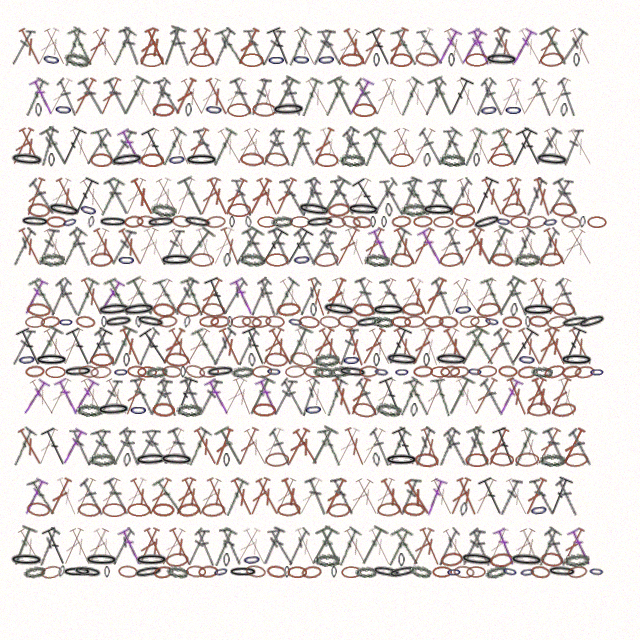chain: (46, 200, 82, 220), (296, 200, 332, 219), (321, 300, 357, 319), (109, 151, 145, 169), (471, 212, 503, 232), (9, 151, 45, 168), (534, 151, 570, 168), (96, 301, 132, 318), (121, 301, 157, 318), (384, 351, 420, 368), (459, 551, 495, 568), (576, 312, 608, 331), (509, 552, 544, 568), (387, 563, 418, 581), (63, 50, 91, 69), (135, 313, 166, 330), (484, 52, 519, 67), (271, 102, 306, 117), (346, 202, 381, 217), (434, 352, 469, 367), (96, 402, 131, 417), (134, 452, 169, 467), (159, 452, 194, 467), (182, 214, 213, 230), (354, 314, 385, 330), (560, 314, 591, 330), (72, 564, 103, 580), (133, 564, 164, 580), (371, 564, 402, 580), (289, 350, 315, 369), (184, 153, 219, 167), (421, 203, 456, 217), (159, 253, 194, 267), (371, 303, 406, 317), (521, 303, 556, 317), (34, 353, 69, 367), (559, 353, 594, 367), (384, 453, 419, 467), (9, 553, 44, 567), (84, 553, 119, 567), (134, 553, 169, 567), (351, 401, 377, 419), (551, 401, 577, 419), (103, 314, 134, 329), (205, 364, 236, 379), (375, 401, 402, 418), (414, 51, 440, 68), (337, 365, 368, 379), (150, 202, 177, 218), (313, 352, 340, 368), (563, 552, 590, 568), (484, 563, 508, 581), (264, 151, 289, 168), (314, 251, 339, 268), (439, 251, 464, 268), (176, 301, 201, 318), (476, 301, 501, 318), (26, 501, 51, 518), (146, 215, 176, 229), (305, 215, 335, 229), (440, 551, 464, 568), (540, 551, 564, 568), (501, 202, 526, 218), (26, 302, 51, 318), (201, 302, 226, 318), (414, 452, 439, 468), (564, 452, 589, 468), (201, 502, 226, 518), (489, 552, 514, 568), (543, 363, 566, 380), (401, 202, 427, 217), (20, 215, 50, 228), (39, 252, 65, 267), (239, 252, 265, 267), (514, 252, 540, 267), (63, 365, 93, 378), (89, 452, 115, 467), (547, 565, 577, 578), (27, 202, 51, 218), (327, 202, 351, 218), (390, 252, 414, 268), (490, 252, 514, 268), (152, 302, 176, 318), (352, 302, 376, 318), (77, 502, 101, 518), (177, 502, 201, 518), (327, 502, 351, 518), (165, 552, 189, 568), (78, 201, 99, 219), (551, 202, 576, 217), (539, 252, 564, 267), (276, 302, 301, 317), (264, 352, 289, 367), (184, 363, 206, 380), (546, 314, 569, 330), (23, 564, 46, 580), (40, 564, 63, 580), (339, 153, 365, 167), (439, 153, 465, 167), (364, 253, 390, 267), (76, 403, 102, 417), (176, 403, 202, 417), (539, 453, 565, 467), (314, 553, 340, 567), (540, 52, 564, 67), (252, 102, 276, 117), (240, 152, 264, 167), (98, 216, 128, 228), (165, 352, 189, 367), (527, 402, 551, 417), (265, 452, 289, 467), (490, 452, 514, 467), (515, 452, 539, 467), (277, 502, 301, 517), (377, 502, 401, 517), (402, 502, 426, 517), (62, 566, 92, 578), (228, 566, 258, 578), (41, 51, 62, 68), (340, 214, 362, 230), (526, 214, 548, 230), (560, 214, 582, 230), (90, 252, 113, 267), (402, 302, 425, 317), (552, 302, 575, 317), (328, 364, 351, 379), (152, 402, 175, 417), (409, 564, 432, 579), (140, 53, 164, 67), (190, 53, 214, 67), (240, 53, 264, 67), (340, 53, 364, 67), (465, 53, 489, 67), (227, 103, 251, 117), (352, 103, 376, 117), (140, 153, 164, 167), (315, 153, 339, 167), (390, 153, 414, 167), (490, 153, 514, 167), (227, 203, 251, 217), (190, 253, 214, 267), (265, 253, 289, 267), (90, 353, 114, 367), (252, 403, 276, 417), (465, 453, 489, 467), (102, 503, 126, 517), (127, 503, 151, 517), (337, 314, 359, 329), (390, 53, 413, 67), (152, 103, 175, 117), (90, 153, 113, 167), (452, 203, 475, 217), (145, 365, 168, 379), (231, 365, 254, 379), (152, 503, 175, 517), (166, 565, 189, 579), (479, 102, 499, 118), (529, 502, 549, 518), (171, 214, 192, 229), (251, 314, 272, 329), (459, 314, 480, 329), (561, 364, 582, 379), (245, 564, 266, 579), (266, 564, 287, 579), (298, 315, 320, 329), (319, 315, 341, 329), (90, 365, 112, 379), (453, 565, 475, 579), (204, 102, 224, 117), (167, 152, 187, 167), (292, 252, 312, 267), (17, 352, 37, 367), (517, 352, 537, 367), (242, 552, 262, 567), (205, 215, 226, 229), (325, 215, 346, 229), (352, 215, 373, 229), (40, 315, 61, 329), (75, 315, 96, 329), (241, 315, 262, 329), (438, 315, 459, 329), (303, 365, 324, 379), (449, 365, 470, 379), (517, 365, 538, 379), (574, 365, 595, 379), (153, 565, 174, 579), (301, 565, 322, 579), (530, 565, 551, 579), (567, 565, 588, 579), (61, 214, 79, 230), (271, 215, 293, 228), (230, 315, 252, 328), (292, 52, 311, 67), (317, 52, 336, 67), (54, 102, 73, 117), (454, 302, 473, 317), (304, 402, 323, 417), (136, 215, 157, 228), (391, 215, 412, 228), (157, 315, 178, 328), (404, 315, 425, 328), (423, 315, 444, 328), (528, 315, 549, 328), (78, 365, 99, 378), (483, 314, 501, 329), (212, 564, 230, 579), (501, 564, 519, 579), (267, 53, 286, 67), (504, 103, 523, 117), (117, 253, 136, 267), (342, 353, 361, 367), (129, 403, 148, 417), (372, 316, 394, 328), (313, 366, 335, 378), (531, 366, 553, 378), (355, 566, 377, 578), (124, 215, 144, 228), (413, 215, 433, 228), (455, 215, 475, 228), (199, 315, 219, 328), (210, 315, 230, 328), (265, 315, 285, 328), (25, 365, 45, 378), (127, 365, 147, 378), (162, 365, 182, 378), (252, 365, 272, 378), (285, 365, 305, 378), (359, 365, 379, 378), (413, 365, 433, 378), (440, 365, 460, 378), (477, 365, 497, 378), (498, 365, 518, 378), (118, 565, 138, 578), (186, 565, 206, 578), (198, 565, 218, 578), (433, 216, 454, 228), (510, 216, 531, 228), (470, 316, 491, 328), (45, 366, 66, 378), (46, 216, 66, 228), (257, 216, 277, 228), (290, 216, 310, 228), (587, 216, 607, 228), (25, 316, 45, 328), (391, 316, 411, 328), (502, 316, 522, 328), (137, 366, 157, 378), (199, 366, 219, 378), (430, 366, 450, 378), (287, 566, 307, 578), (341, 566, 361, 578), (432, 566, 452, 578), (466, 566, 486, 578), (542, 215, 559, 229), (287, 315, 304, 329), (373, 365, 390, 379), (519, 565, 536, 579), (495, 215, 512, 228), (588, 565, 605, 578), (266, 365, 282, 378), (467, 365, 483, 378), (58, 316, 74, 328), (113, 366, 129, 378), (394, 366, 410, 378), (589, 366, 605, 378), (446, 566, 462, 578), (372, 452, 381, 467), (459, 502, 468, 517), (57, 565, 66, 578), (560, 103, 568, 117), (423, 153, 431, 167), (385, 203, 393, 217), (223, 253, 231, 267), (510, 303, 518, 317), (248, 353, 256, 367), (410, 403, 418, 417), (123, 453, 131, 467), (373, 53, 380, 67), (448, 53, 455, 67), (573, 53, 580, 67), (35, 103, 42, 117), (185, 103, 192, 117), (48, 153, 55, 167), (473, 153, 480, 167), (310, 303, 317, 317), (123, 353, 130, 367), (373, 353, 380, 367), (423, 353, 430, 367), (223, 453, 230, 467), (223, 553, 230, 567), (398, 553, 405, 567), (87, 216, 95, 228), (183, 316, 191, 328), (245, 216, 252, 228), (579, 216, 586, 228), (135, 316, 142, 328), (229, 216, 235, 228), (370, 216, 376, 228), (381, 216, 387, 228), (101, 316, 107, 328), (227, 316, 233, 328), (525, 316, 531, 328), (180, 366, 186, 378), (104, 566, 110, 578), (284, 566, 290, 578), (331, 566, 337, 578)
double: (179, 226, 216, 268), (317, 175, 352, 218), (363, 126, 398, 168), (230, 226, 265, 268), (138, 326, 173, 368), (539, 25, 573, 68), (39, 125, 73, 168), (493, 275, 527, 318), (456, 325, 490, 368), (214, 425, 248, 468), (306, 525, 340, 568), (351, 176, 385, 218), (256, 226, 290, 268), (281, 226, 315, 268), (506, 326, 540, 368), (118, 75, 151, 118), (268, 75, 301, 118), (481, 225, 514, 268), (126, 275, 159, 318), (31, 325, 64, 368), (443, 375, 476, 418), (306, 425, 339, 468), (356, 525, 389, 568), (151, 476, 185, 517), (26, 476, 59, 518), (389, 526, 422, 568), (327, 75, 359, 118), (427, 75, 459, 118), (177, 175, 209, 218), (282, 325, 314, 368), (244, 375, 276, 418), (315, 525, 347, 568), (214, 26, 247, 67), (140, 126, 172, 168), (432, 126, 464, 168), (507, 126, 539, 168), (94, 176, 126, 218), (57, 226, 89, 268), (27, 276, 59, 318), (152, 276, 184, 318), (269, 276, 301, 318), (82, 326, 114, 368), (465, 326, 497, 368), (90, 426, 122, 468), (382, 526, 414, 568), (57, 125, 88, 168), (107, 325, 138, 368), (477, 475, 508, 518), (451, 277, 484, 317), (77, 176, 109, 217), (107, 26, 138, 68), (365, 26, 396, 68), (390, 26, 421, 68), (19, 76, 50, 118), (319, 76, 350, 118), (444, 76, 475, 118), (90, 126, 121, 168), (157, 126, 188, 168), (207, 126, 238, 168), (515, 126, 546, 168), (69, 176, 100, 218), (402, 176, 433, 218), (427, 176, 458, 218), (102, 276, 133, 318), (15, 326, 46, 368), (65, 326, 96, 368), (190, 326, 221, 368), (394, 376, 425, 418), (40, 426, 71, 468), (382, 426, 413, 468), (219, 476, 250, 518), (470, 175, 500, 218), (203, 275, 233, 318), (241, 325, 271, 368), (383, 325, 413, 368), (558, 325, 588, 368), (391, 425, 421, 468), (466, 425, 496, 468), (8, 525, 38, 568), (41, 525, 71, 568), (557, 27, 589, 67), (482, 127, 514, 167), (94, 277, 126, 317), (394, 277, 426, 317), (482, 327, 514, 367), (19, 377, 51, 417), (290, 427, 322, 467), (344, 477, 376, 517), (402, 477, 434, 517), (457, 26, 488, 67), (77, 76, 108, 117), (519, 76, 550, 117), (215, 126, 246, 167), (232, 126, 263, 167), (532, 126, 563, 167), (552, 176, 583, 217), (277, 276, 308, 317), (182, 326, 213, 367), (69, 376, 100, 417), (15, 426, 46, 467), (15, 526, 46, 567), (232, 526, 263, 567), (440, 526, 471, 567), (66, 26, 96, 68), (283, 26, 313, 68), (358, 26, 388, 68), (395, 76, 425, 118), (458, 126, 488, 168), (220, 176, 250, 218), (383, 226, 413, 268), (70, 276, 100, 318), (403, 376, 433, 418), (8, 426, 38, 468), (183, 426, 213, 468), (508, 426, 538, 468), (208, 526, 238, 568), (333, 526, 363, 568), (533, 526, 563, 568), (158, 25, 187, 68), (266, 25, 295, 68), (378, 375, 407, 418), (491, 425, 520, 468), (545, 475, 574, 518), (90, 27, 121, 67), (332, 27, 363, 67), (557, 227, 588, 267), (344, 277, 375, 317), (27, 377, 58, 417), (183, 26, 213, 67), (433, 26, 463, 67), (508, 26, 538, 67), (516, 26, 546, 67), (45, 76, 75, 117), (178, 76, 208, 117), (303, 76, 333, 117), (345, 76, 375, 117), (403, 76, 433, 117), (116, 126, 146, 167), (408, 126, 438, 167), (541, 126, 571, 167), (566, 126, 596, 167), (103, 176, 133, 217), (128, 176, 158, 217), (153, 176, 183, 217), (116, 226, 146, 267), (166, 226, 196, 267), (241, 226, 271, 267), (416, 226, 446, 267), (466, 226, 496, 267), (491, 226, 521, 267), (516, 226, 546, 267), (566, 226, 596, 267), (145, 276, 175, 317), (170, 276, 200, 317), (195, 276, 225, 317), (41, 326, 71, 367), (158, 326, 188, 367), (166, 326, 196, 367), (266, 326, 296, 367), (316, 326, 346, 367), (358, 326, 388, 367), (566, 326, 596, 367), (78, 376, 108, 417), (203, 376, 233, 417), (220, 376, 250, 417), (470, 376, 500, 417), (58, 426, 88, 467), (191, 426, 221, 467), (241, 426, 271, 467), (358, 426, 388, 467), (533, 426, 563, 467), (558, 426, 588, 467), (103, 476, 133, 517), (128, 476, 158, 517), (253, 476, 283, 517), (295, 476, 325, 517), (378, 476, 408, 517), (91, 526, 121, 567), (158, 526, 188, 567), (341, 526, 371, 567), (508, 526, 538, 567), (441, 26, 470, 68), (491, 26, 520, 68), (295, 76, 324, 118), (283, 126, 312, 168), (358, 126, 387, 168), (491, 126, 520, 168), (216, 326, 245, 368), (483, 426, 512, 468), (228, 476, 257, 518), (83, 526, 112, 568), (408, 526, 437, 568), (27, 177, 58, 216), (171, 375, 199, 418), (16, 26, 45, 67), (33, 26, 62, 67), (41, 26, 70, 67), (83, 26, 112, 67), (191, 26, 220, 67), (233, 26, 262, 67), (291, 26, 320, 67), (341, 26, 370, 67), (533, 26, 562, 67), (28, 76, 57, 117), (70, 76, 99, 117), (103, 76, 132, 117), (128, 76, 157, 117), (195, 76, 224, 117), (203, 76, 232, 117), (220, 76, 249, 117), (545, 76, 574, 117), (8, 126, 37, 167), (16, 126, 45, 167), (183, 126, 212, 167), (241, 126, 270, 167), (391, 126, 420, 167), (45, 176, 74, 217), (53, 176, 82, 217), (245, 176, 274, 217), (345, 176, 374, 217), (16, 226, 45, 267), (41, 226, 70, 267), (91, 226, 120, 267), (141, 226, 170, 267), (333, 226, 362, 267), (391, 226, 420, 267), (458, 226, 487, 267), (541, 226, 570, 267), (20, 276, 49, 317), (78, 276, 107, 317), (120, 276, 149, 317), (520, 276, 549, 317), (528, 276, 557, 317), (545, 276, 574, 317), (258, 326, 287, 367), (308, 326, 337, 367), (366, 326, 395, 367), (391, 326, 420, 367), (408, 326, 437, 367), (433, 326, 462, 367), (441, 326, 470, 367), (516, 326, 545, 367), (45, 376, 74, 417), (53, 376, 82, 417), (103, 376, 132, 417), (303, 376, 332, 417), (453, 376, 482, 417), (495, 376, 524, 417), (158, 426, 187, 467), (283, 426, 312, 467), (333, 426, 362, 467), (20, 476, 49, 517), (45, 476, 74, 517), (145, 476, 174, 517), (195, 476, 224, 517), (320, 476, 349, 517), (353, 476, 382, 517), (428, 476, 457, 517), (503, 476, 532, 517), (141, 526, 170, 567), (241, 526, 270, 567), (366, 526, 395, 567), (558, 526, 587, 567), (566, 526, 595, 567), (59, 26, 87, 68), (142, 26, 170, 68), (84, 226, 112, 268), (179, 276, 207, 318), (479, 276, 507, 318), (321, 376, 349, 418), (317, 426, 345, 468), (517, 526, 545, 568), (153, 77, 182, 117), (108, 127, 137, 167), (341, 127, 370, 167), (8, 227, 37, 267), (108, 227, 137, 267), (308, 227, 337, 267), (208, 327, 237, 367), (478, 377, 507, 417), (78, 477, 107, 517), (567, 26, 595, 67), (96, 76, 124, 117), (171, 76, 199, 117), (229, 76, 257, 117), (371, 76, 399, 117), (379, 76, 407, 117), (454, 76, 482, 117), (496, 76, 524, 117), (67, 126, 95, 167), (134, 126, 162, 167), (309, 126, 337, 167), (317, 126, 345, 167), (384, 126, 412, 167), (467, 126, 495, 167), (121, 176, 149, 217), (146, 176, 174, 217), (204, 176, 232, 217), (254, 176, 282, 217), (271, 176, 299, 217), (304, 176, 332, 217), (454, 176, 482, 217), (479, 176, 507, 217), (496, 176, 524, 217), (504, 176, 532, 217), (209, 226, 237, 267), (267, 226, 295, 267), (359, 226, 387, 267), (367, 226, 395, 267), (409, 226, 437, 267), (434, 226, 462, 267), (229, 276, 257, 317), (321, 276, 349, 317), (371, 276, 399, 317), (404, 276, 432, 317), (421, 276, 449, 317), (471, 276, 499, 317), (117, 326, 145, 367), (534, 326, 562, 367), (542, 326, 570, 367), (179, 376, 207, 417), (254, 376, 282, 417), (371, 376, 399, 417), (521, 376, 549, 417), (546, 376, 574, 417), (167, 426, 195, 467), (542, 426, 570, 467), (71, 476, 99, 517), (121, 476, 149, 517), (171, 476, 199, 517), (179, 476, 207, 517), (204, 476, 232, 517), (271, 476, 299, 517), (446, 476, 474, 517), (471, 476, 499, 517), (521, 476, 549, 517), (59, 526, 87, 567), (67, 526, 95, 567), (117, 526, 145, 567), (134, 526, 162, 567), (167, 526, 195, 567), (292, 526, 320, 567), (83, 128, 113, 166), (416, 27, 445, 66), (353, 77, 382, 116), (370, 177, 399, 216), (220, 277, 249, 316), (292, 227, 320, 267), (54, 277, 82, 317), (379, 277, 407, 317), (442, 427, 470, 467), (567, 427, 595, 467), (384, 26, 411, 67), (409, 26, 436, 67), (467, 26, 494, 67), (484, 26, 511, 67), (504, 76, 531, 117), (167, 126, 194, 167), (196, 176, 223, 217), (134, 226, 161, 267), (342, 226, 369, 267), (329, 276, 356, 317), (354, 276, 381, 317), (446, 276, 473, 317), (59, 326, 86, 367), (292, 326, 319, 367), (121, 376, 148, 417), (329, 376, 356, 417), (346, 376, 373, 417), (421, 376, 448, 417), (504, 376, 531, 417), (529, 376, 556, 417), (34, 426, 61, 467), (234, 426, 261, 467), (259, 426, 286, 467), (342, 426, 369, 467), (54, 476, 81, 517), (96, 476, 123, 517), (246, 476, 273, 517), (279, 476, 306, 517), (304, 476, 331, 517), (371, 476, 398, 517), (454, 476, 481, 517), (259, 526, 286, 567), (417, 526, 444, 567), (484, 526, 511, 567), (492, 526, 519, 567), (417, 127, 445, 166), (22, 176, 48, 218), (446, 177, 474, 216), (546, 177, 574, 216), (279, 377, 307, 416), (142, 427, 170, 466), (210, 426, 236, 468), (418, 426, 444, 468), (518, 426, 544, 468), (422, 476, 448, 518), (267, 527, 295, 566), (9, 27, 36, 67), (209, 27, 236, 67), (317, 27, 344, 67), (421, 77, 448, 117), (479, 77, 506, 117), (292, 127, 319, 167), (279, 177, 306, 217), (379, 177, 406, 217), (521, 177, 548, 217), (509, 227, 536, 267), (296, 277, 323, 317), (554, 277, 581, 317), (234, 327, 261, 367), (492, 327, 519, 367), (196, 377, 223, 417), (271, 377, 298, 417), (354, 377, 381, 417), (267, 427, 294, 467), (434, 427, 461, 467), (529, 477, 556, 517), (554, 477, 581, 517), (34, 527, 61, 567), (459, 527, 486, 567), (118, 26, 144, 67), (135, 26, 161, 67), (172, 176, 198, 217), (397, 176, 423, 217), (218, 226, 244, 267), (443, 226, 469, 267), (230, 376, 256, 417), (410, 426, 436, 467), (134, 427, 161, 466), (109, 527, 136, 566), (193, 226, 218, 268), (305, 276, 330, 318), (343, 326, 368, 368), (418, 326, 443, 368), (430, 376, 455, 418), (555, 376, 580, 418), (260, 27, 286, 67), (310, 27, 336, 67), (472, 77, 498, 117), (193, 127, 219, 167), (268, 127, 294, 167), (330, 177, 356, 217), (68, 227, 94, 267), (535, 227, 561, 267), (47, 277, 73, 317), (247, 277, 273, 317), (505, 277, 531, 317), (10, 327, 36, 367), (93, 327, 119, 367), (135, 327, 161, 367), (97, 377, 123, 417), (147, 377, 173, 417), (85, 427, 111, 467), (110, 427, 136, 467), (497, 477, 523, 517), (285, 527, 311, 567), (435, 527, 461, 567), (468, 527, 494, 567), (543, 527, 569, 567), (280, 76, 305, 117), (35, 226, 60, 267), (430, 276, 455, 317), (130, 376, 155, 417), (118, 426, 143, 467), (460, 426, 485, 467), (330, 476, 355, 517), (397, 476, 422, 517), (256, 76, 280, 118), (531, 176, 555, 218), (243, 27, 268, 67), (55, 77, 80, 117), (530, 77, 555, 117), (260, 127, 285, 167), (443, 127, 468, 167), (160, 227, 185, 267), (318, 227, 343, 267), (368, 427, 393, 467), (185, 527, 210, 567), (193, 527, 218, 567), (169, 26, 193, 67), (248, 76, 272, 117), (336, 126, 360, 167), (423, 176, 447, 217), (256, 276, 280, 317), (219, 526, 243, 567), (148, 77, 172, 117), (298, 177, 322, 217), (156, 377, 180, 417), (69, 427, 93, 467), (36, 126, 59, 167), (556, 77, 579, 117), (561, 127, 584, 167), (231, 177, 254, 217), (298, 377, 321, 417), (337, 326, 359, 367)
